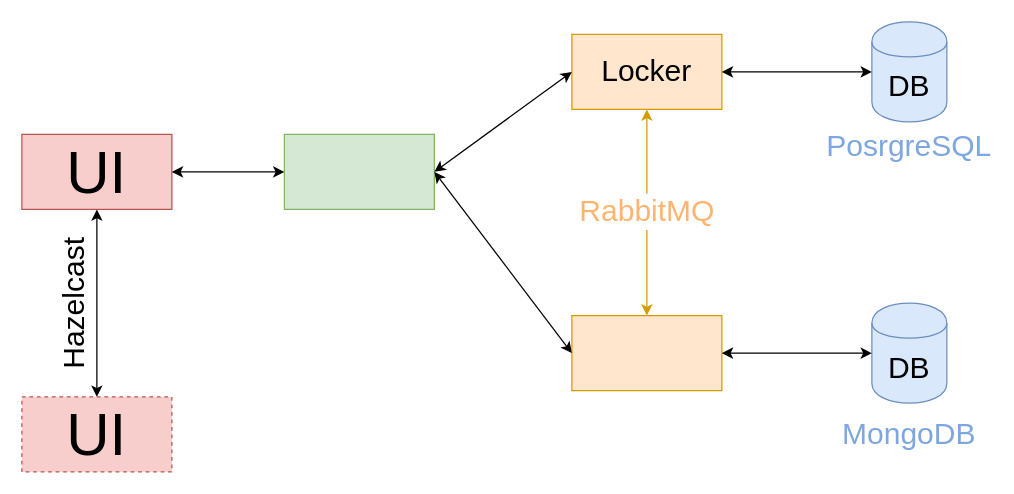
This 1014x494 diagram has some shape labels left out. The shapes that lost their labels are listed below. From the top down, each one's box as (x1, y1, x2, y2) in pixels, then its label:
(283, 133, 434, 209): RestAPI
(571, 314, 722, 391): User
